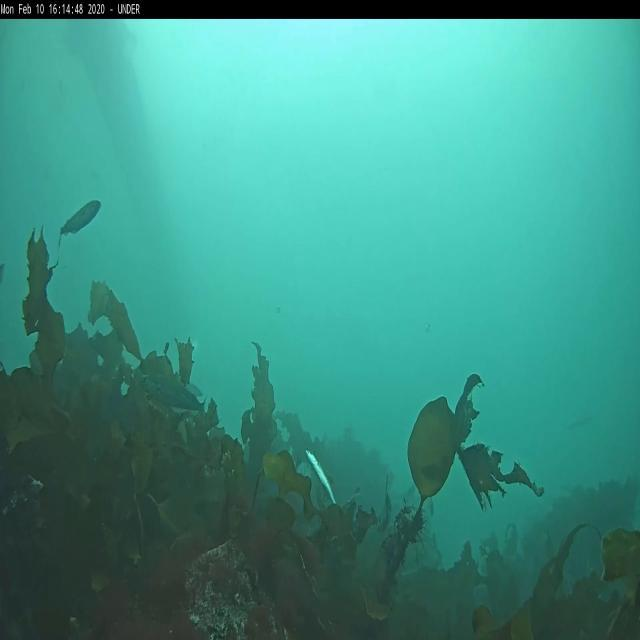fish: (58, 196, 102, 245), (306, 448, 338, 508)
